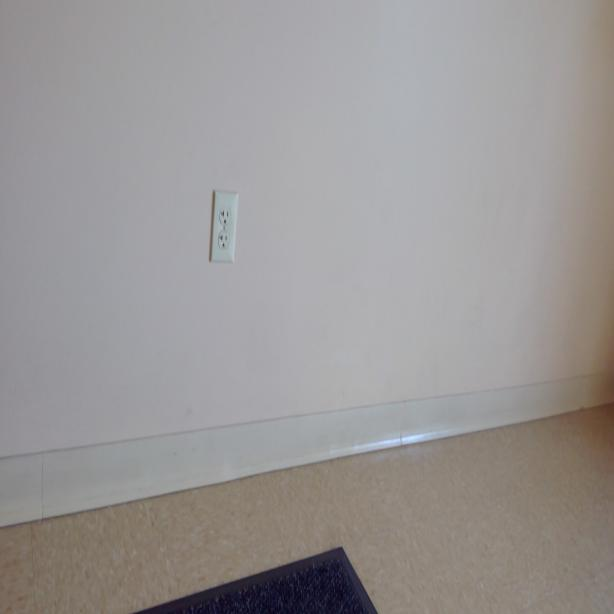typeb: (218, 208, 232, 226), (219, 230, 230, 252)
